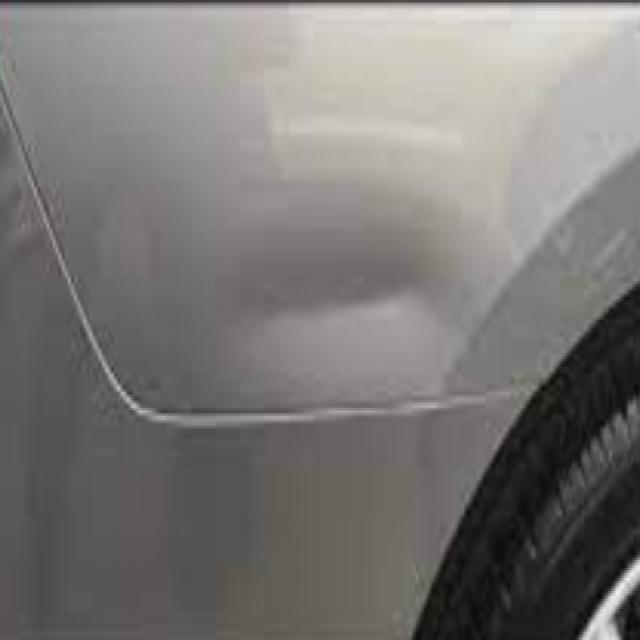dents: (234, 196, 465, 442)
